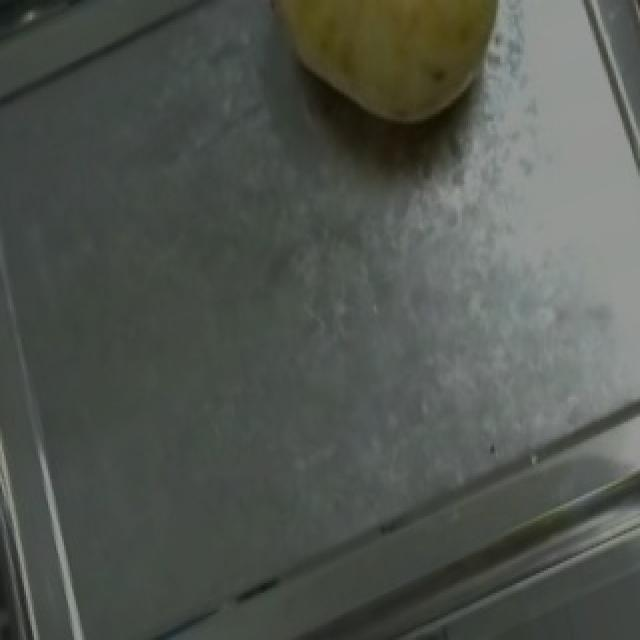Fruit: (228, 0, 532, 159)
